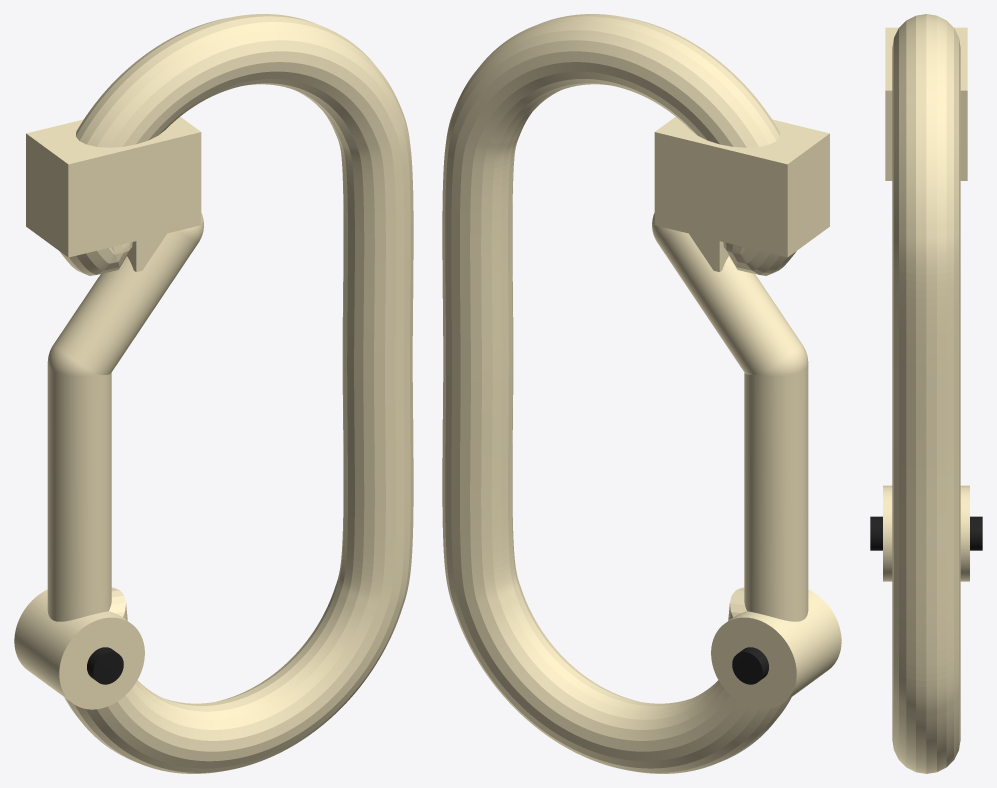
Rendered from Sports_Carabiner__0008.glb.
The picture shows the model from 3 angles, left to right: view 1: azimuth 30°, elevation 25°; view 2: azimuth 150°, elevation 25°; view 3: azimuth 270°, elevation 25°; orthographic projection. The views are drawn at different scales.
Visible parts, largest first — view 1: body::body_loop, gate::gate_bar, body::nose_slot, gate::hinge_pin, gate::gate_key; view 2: body::body_loop, gate::gate_bar, body::nose_slot, gate::hinge_pin, gate::gate_key; view 3: body::body_loop, body::nose_slot, gate::gate_bar, gate::hinge_pin.
Part boxes in pixels (<box>): body::body_loop: <box>59,14,413,773</box>; gate::gate_bar: <box>14,213,203,709</box>; body::nose_slot: <box>26,116,201,257</box>; gate::hinge_pin: <box>87,647,123,684</box>; gate::gate_key: <box>127,233,166,271</box>; body::body_loop: <box>442,14,796,773</box>; gate::gate_bar: <box>652,213,841,709</box>; body::nose_slot: <box>654,116,829,257</box>; gate::hinge_pin: <box>732,647,768,684</box>; gate::gate_key: <box>689,233,728,271</box>; body::body_loop: <box>892,14,960,773</box>; body::nose_slot: <box>885,27,967,180</box>; gate::gate_bar: <box>883,485,969,581</box>; gate::hinge_pin: <box>870,516,982,550</box>.
Size of the model in its own units: 0.046 by 0.0879 by 0.0124.
Materials: 2 (1 with a texture image).
